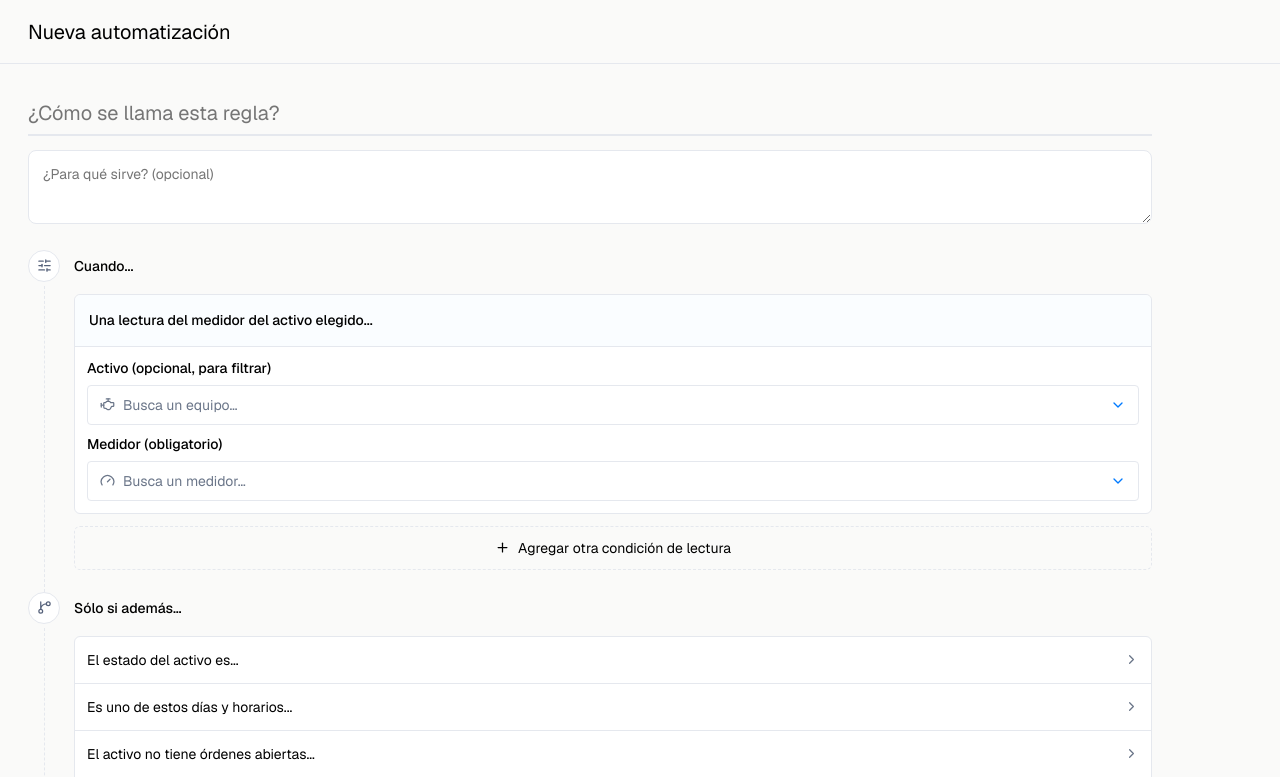
Test case: AutomatizacionCrearPanel — el disparador › elige solo el medidor cuando el activo tiene exactamente uno
Click the button "Busca un equipo…" at (180, 405), box 87,385 -> 1139,425
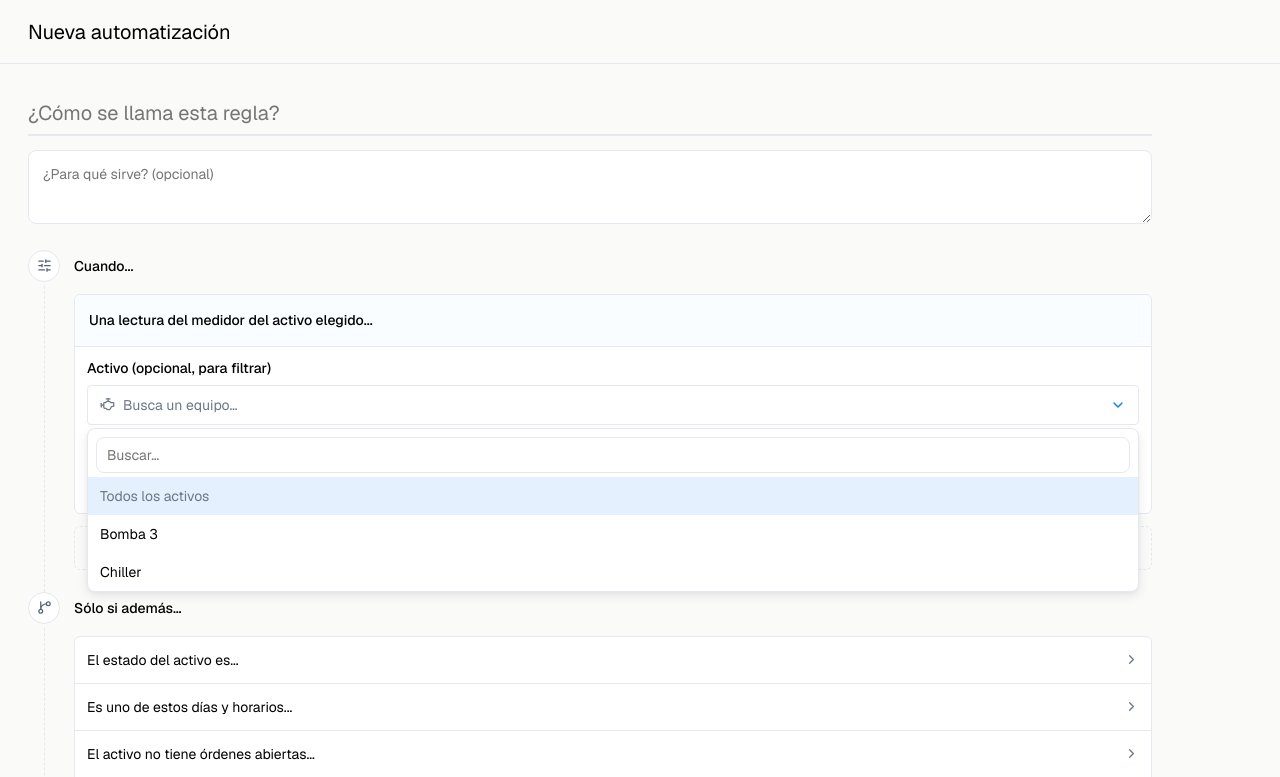
Click the button "Chiller" at (121, 572), box 88,553 -> 1138,591
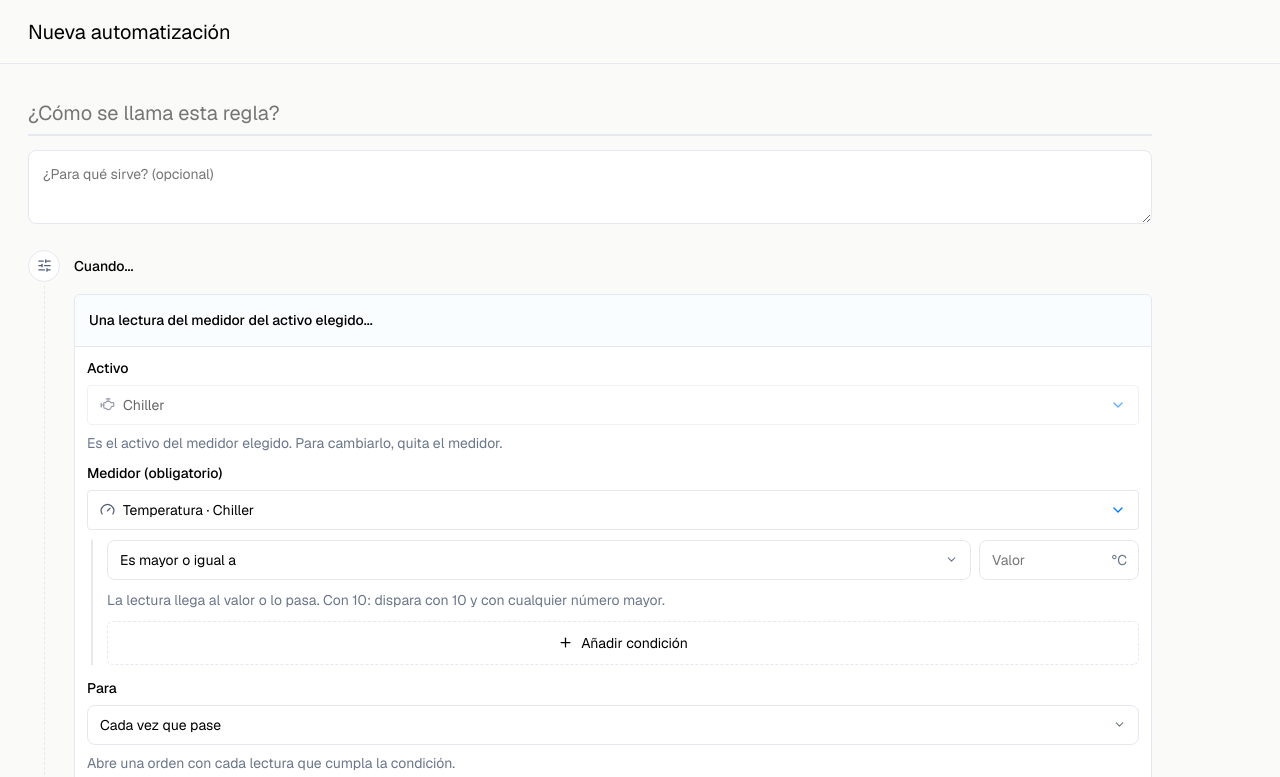
Expected: the text "Temperatura · Chiller" is shown, 123,501 -> 254,519
Expected: the number field with placeholder "Valor" is shown, 979,540 -> 1139,580
